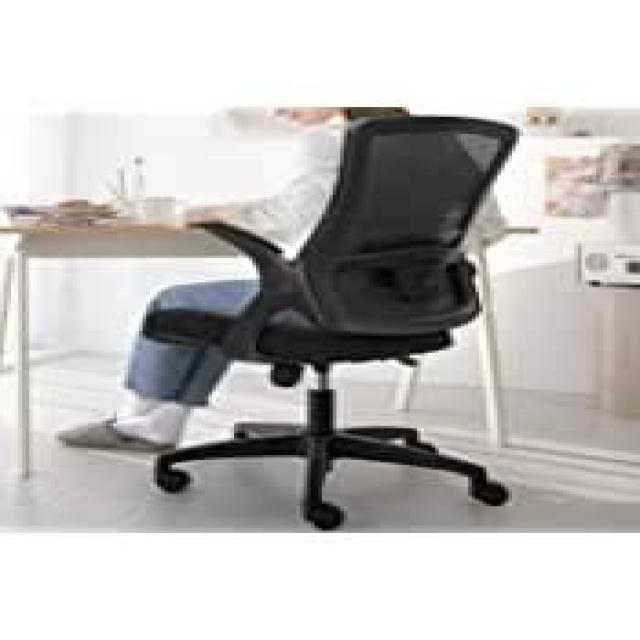chair: (70, 78, 552, 614)
